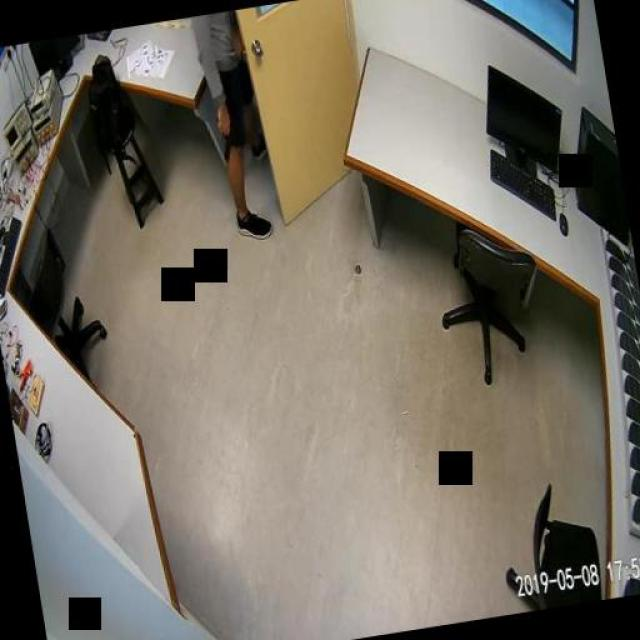gun: (214, 112, 236, 160)
